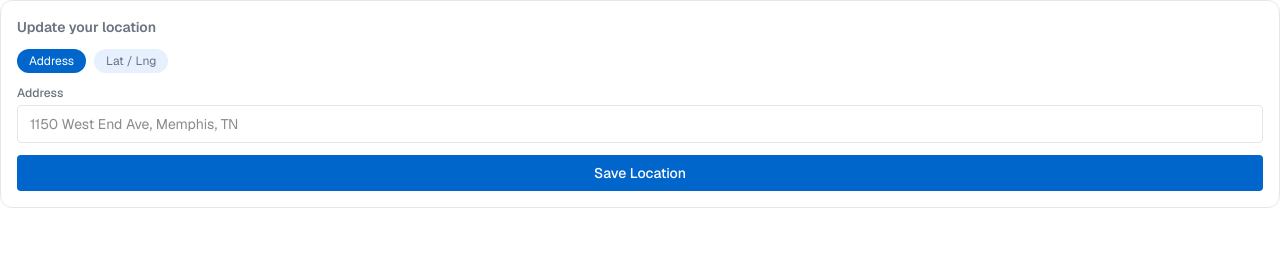
Test: LocationEntryCard › shows the error message when submitMyLocation fails
Type "nowhereville xyz" into the field labelled "Address".
click(640, 124); type("nowhereville xyz")  # box [17,105,1263,143]
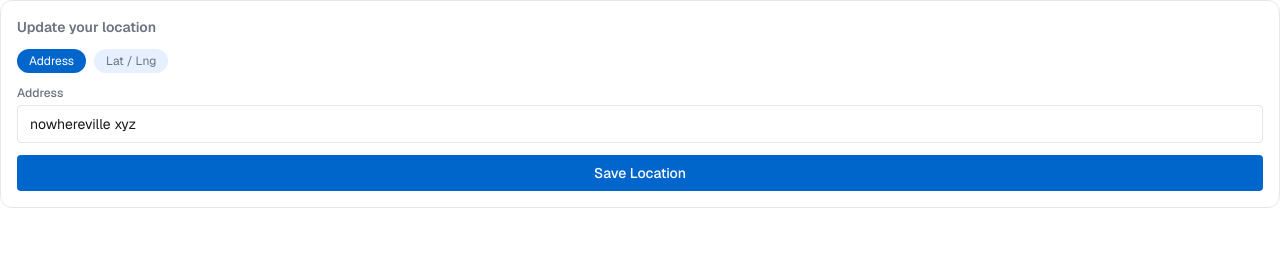
Click the button "Save Location".
click(640, 173)  # box [17,155,1263,191]
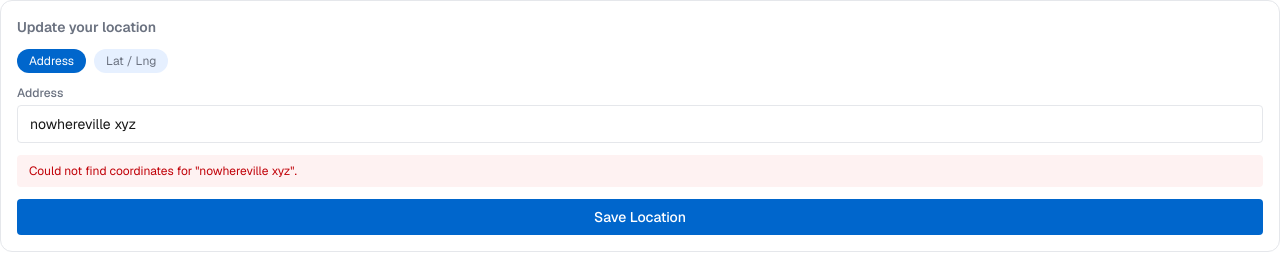
Expected: the text "Could not find coordinates for \"nowhereville xyz\"." is shown, [17,155,1263,187]
